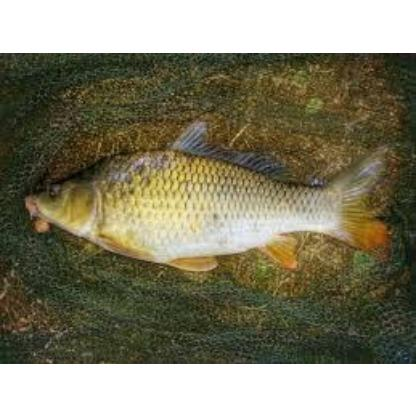ikan-mas: (24, 118, 387, 276)
